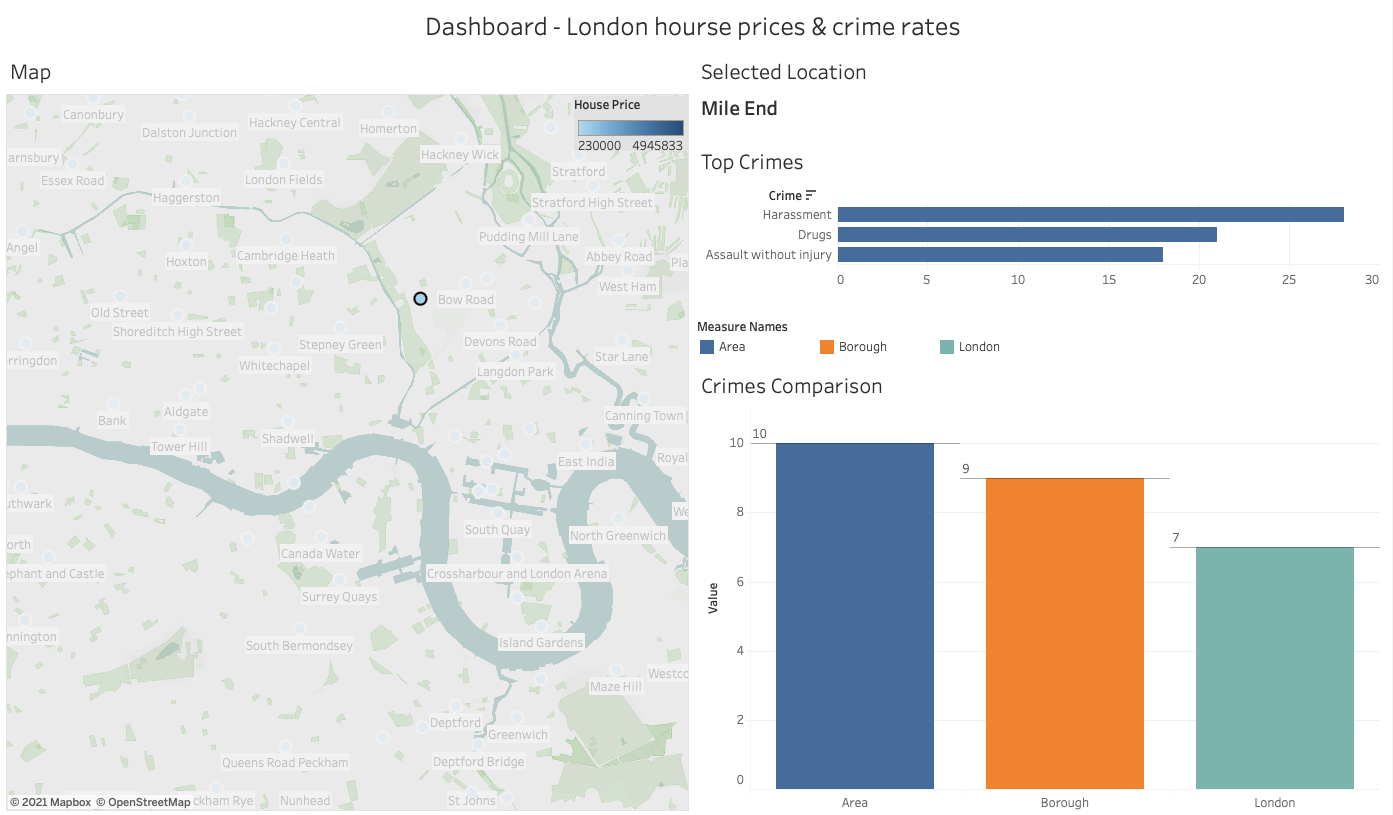

Layout of this report page (visuals, bound fields, positions):
{"tool":"tableau","page":{"name":"Dashboard - London hourse prices & crime rates","canvas":[1000,1000],"units":"permille","ordinal":0},"visuals":[{"type":"worksheet","box":[0,0,1000,1000]},{"type":"worksheet","param":"horz","box":[4.7,8.6,990.6,982.9]},{"type":"worksheet","param":"vert","box":[4.7,8.6,990.6,982.9]},{"type":"worksheet","box":[4.7,8.6,990.6,44.9]},{"type":"worksheet","param":"vert","box":[4.7,53.5,990.6,938]},{"type":"worksheet","box":[4.7,53.5,990.6,938]},{"type":"worksheet","param":"horz","box":[4.7,53.5,990.6,938]},{"type":"worksheet","box":[4.7,53.5,990.6,938]},{"type":"worksheet","title":"Map","mark":"Automatic","rows":["Latitude"],"cols":["Longitude"],"box":[4.7,53.5,495.3,938]},{"type":"worksheet","title":"Selected Location","mark":"Automatic","box":[500,53.5,495.4,92.7]},{"type":"worksheet","title":"Map","mark":"Automatic","rows":["Latitude"],"cols":["Longitude"],"param":"[federated.1dxam7f1kzk6pi1b9x7jl0oz6u2l].[none:Buy:qk]","box":[414.9,119.8,81.9,66.3]},{"type":"worksheet","title":"Top Crimes","mark":"Automatic","rows":["Crime"],"cols":["Number"],"box":[500,146.2,495.4,201]},{"type":"worksheet","title":"Crimes Comparison","mark":"Automatic","param":"[federated.1dxam7f1kzk6pi1b9x7jl0oz6u2l].[:Measure Names]","box":[500,347.2,495.4,41.2]},{"type":"worksheet","title":"Crimes Comparison","mark":"Automatic","box":[500,388.4,495.4,603]}]}

Visuals, with their boxes on the dashboard's canvas, which has no fixed pixel size, in thousandths of its width and height (x1, y1, x2, y2). These are canvas units, not pixel positions in the 1393x815 screenshot, which may show the page scaled, cropped or inside an application window:
worksheet: x1=0, y1=0, x2=1000, y2=1000
worksheet: x1=5, y1=9, x2=995, y2=992
worksheet: x1=5, y1=9, x2=995, y2=992
worksheet: x1=5, y1=9, x2=995, y2=54
worksheet: x1=5, y1=54, x2=995, y2=992
worksheet: x1=5, y1=54, x2=995, y2=992
worksheet: x1=5, y1=54, x2=995, y2=992
worksheet: x1=5, y1=54, x2=995, y2=992
"Map" worksheet: x1=5, y1=54, x2=500, y2=992
"Selected Location" worksheet: x1=500, y1=54, x2=995, y2=146
"Map" worksheet: x1=415, y1=120, x2=497, y2=186
"Top Crimes" worksheet: x1=500, y1=146, x2=995, y2=347
"Crimes Comparison" worksheet: x1=500, y1=347, x2=995, y2=388
"Crimes Comparison" worksheet: x1=500, y1=388, x2=995, y2=991
